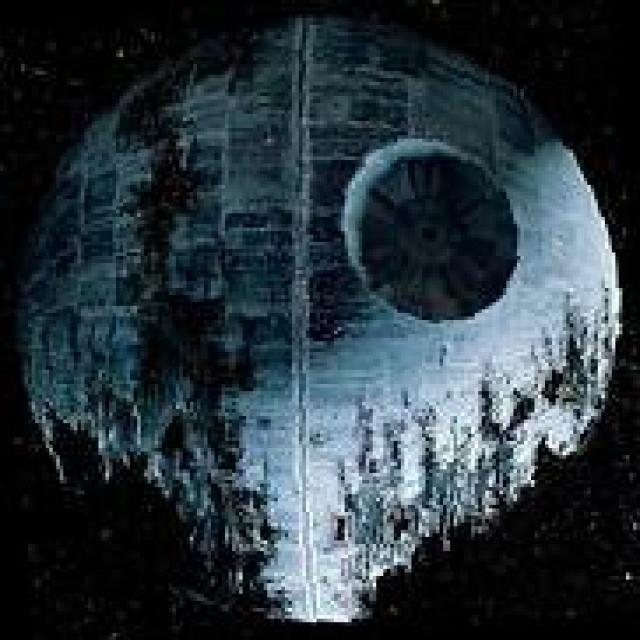Death Star: (7, 0, 629, 622)
